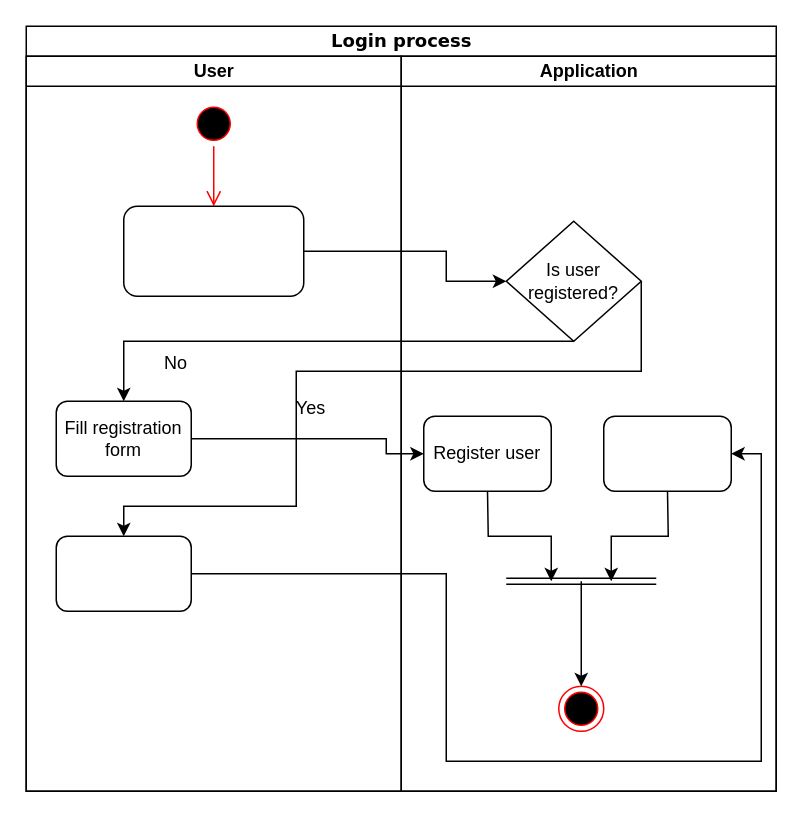
This 803x818 diagram has some shape labels left out. The centre of each missing label's shape, as x and y in pixels:
"Click on login" goes at point (213, 250).
"Fill login form" goes at point (123, 573).
"Login user" goes at point (666, 453).
